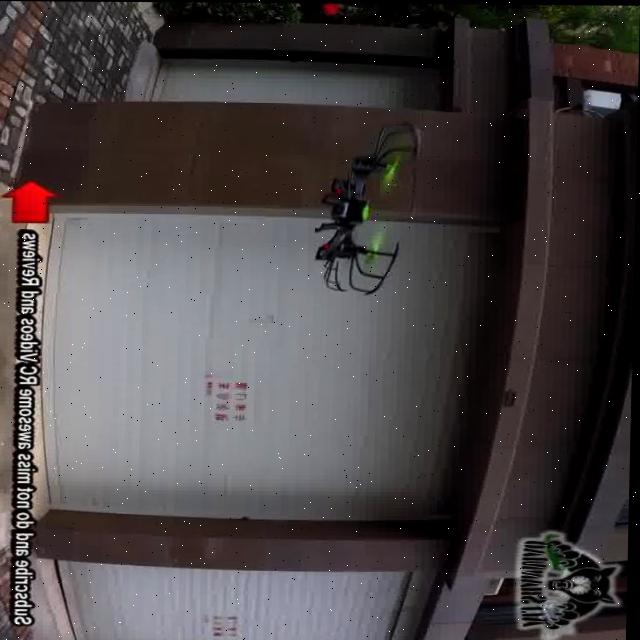drone: (306, 118, 438, 298)
